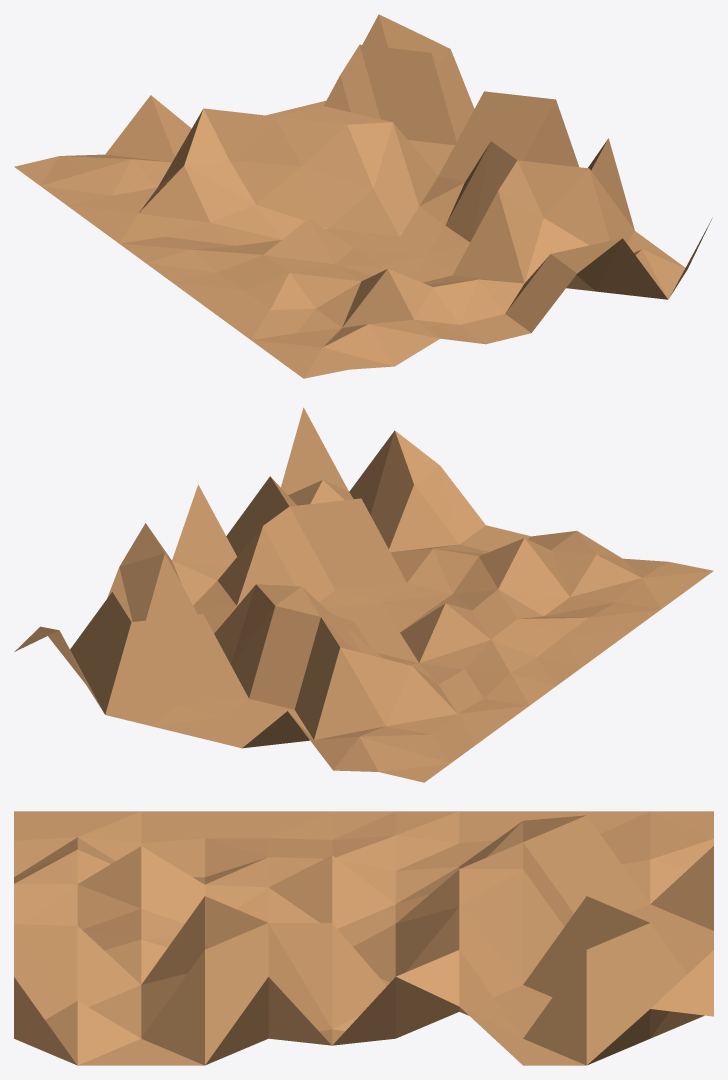
File: mountains_1.dae
The picture shows the model from 3 angles, top to bottom: view 1: azimuth 30°, elevation 25°; view 2: azimuth 150°, elevation 25°; view 3: azimuth 270°, elevation 25°; orthographic projection. The views are drawn at different scales.
Parts seen in each view (by area): view 1: Landscape_001; view 2: Landscape_001; view 3: Landscape_001.
Part boxes in pixels (x1,y1,x2,y2): Landscape_001: (14,14,712,378); Landscape_001: (14,407,713,782); Landscape_001: (14,811,713,1065).
Bounding box in the file's own units: 121 × 148 × 20.77.
